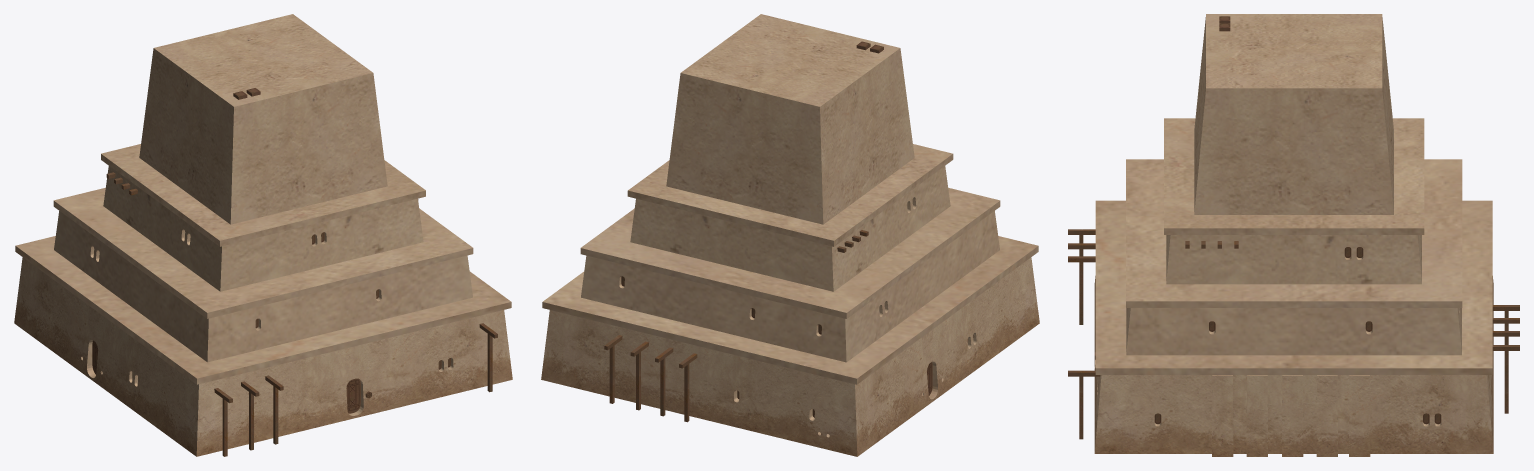
File: building_1.glb
The picture shows the model from 3 angles, left to right: view 1: azimuth 30°, elevation 25°; view 2: azimuth 150°, elevation 25°; view 3: azimuth 270°, elevation 25°; orthographic projection. The views are drawn at different scales.
Parts seen in each view (by area): view 1: Object_11; view 2: Object_11; view 3: Object_11.
Boxes of the visible parts, left/top/right/bottom form: Object_11: left=14, top=14, right=512, bottom=456; Object_11: left=541, top=14, right=1039, bottom=456; Object_11: left=1068, top=14, right=1519, bottom=456.
Bounding box in the file's own units: 22.06 × 19.26 × 24.52.
Materials: 1 (1 with a texture image).
